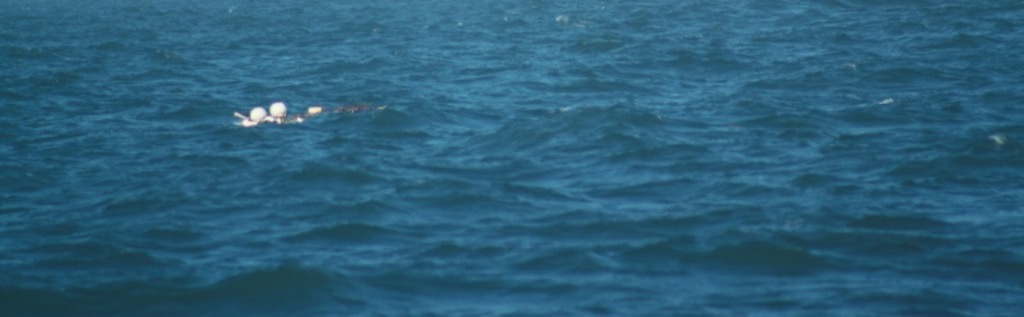plastic: (206, 73, 409, 156)
